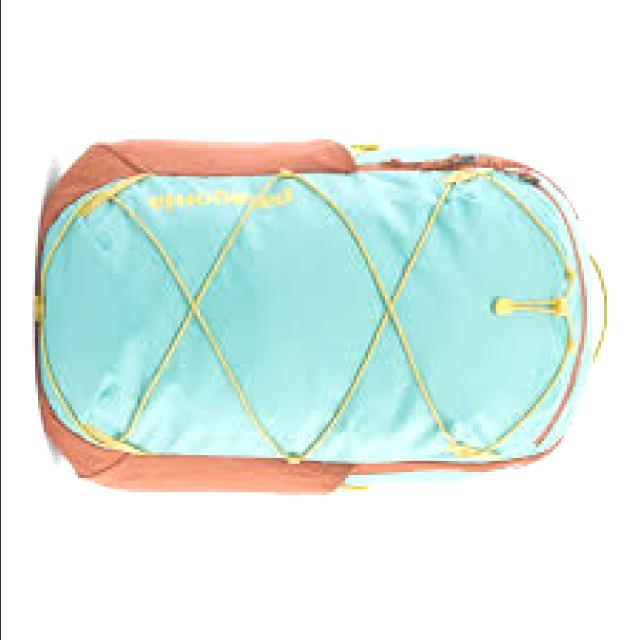backpack: (35, 135, 613, 496)
